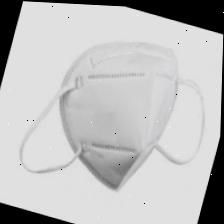mask: (3, 0, 214, 217)
